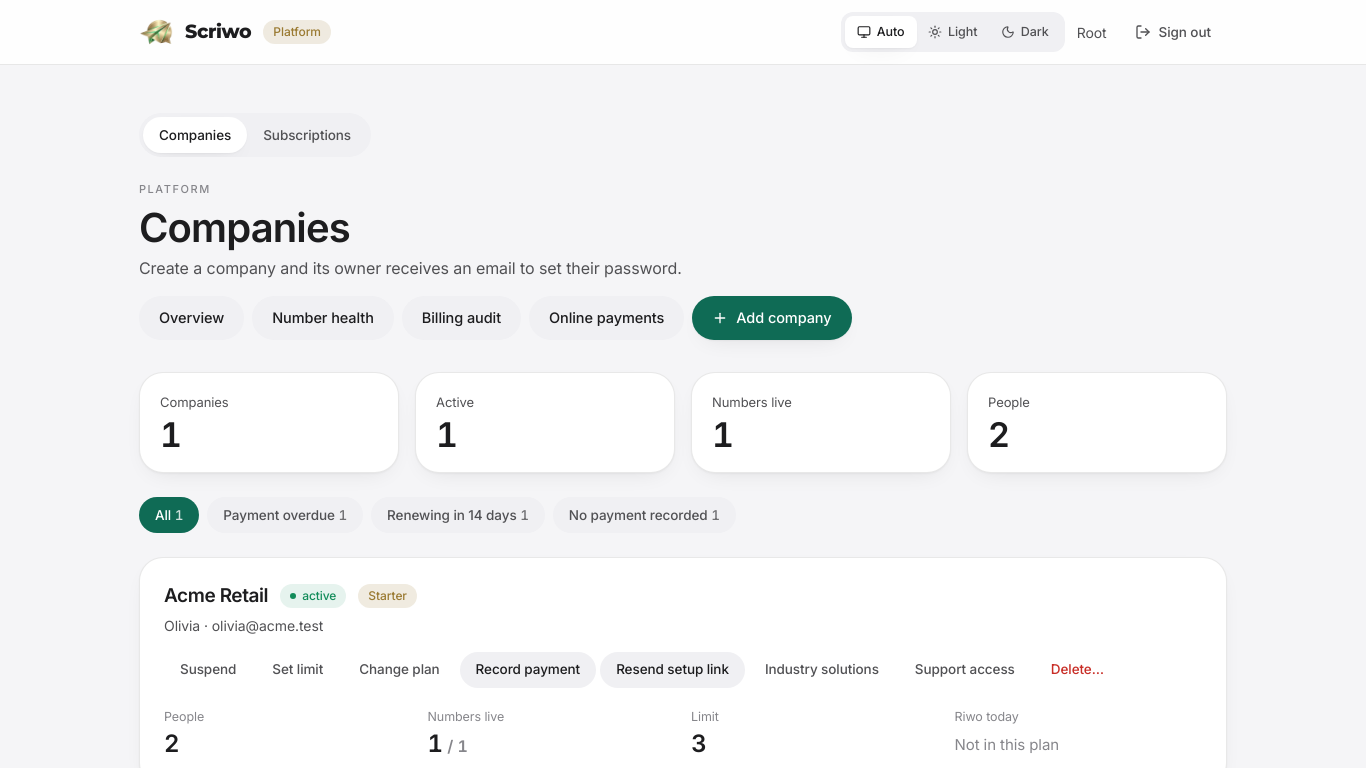
Test case: choosing a plan when a company is added › shows why a company could not be added
Expected: the heading "Acme Retail" is shown, 164,582 -> 268,610
Click the button "Add company" at (772, 318), box 692,296 -> 852,340
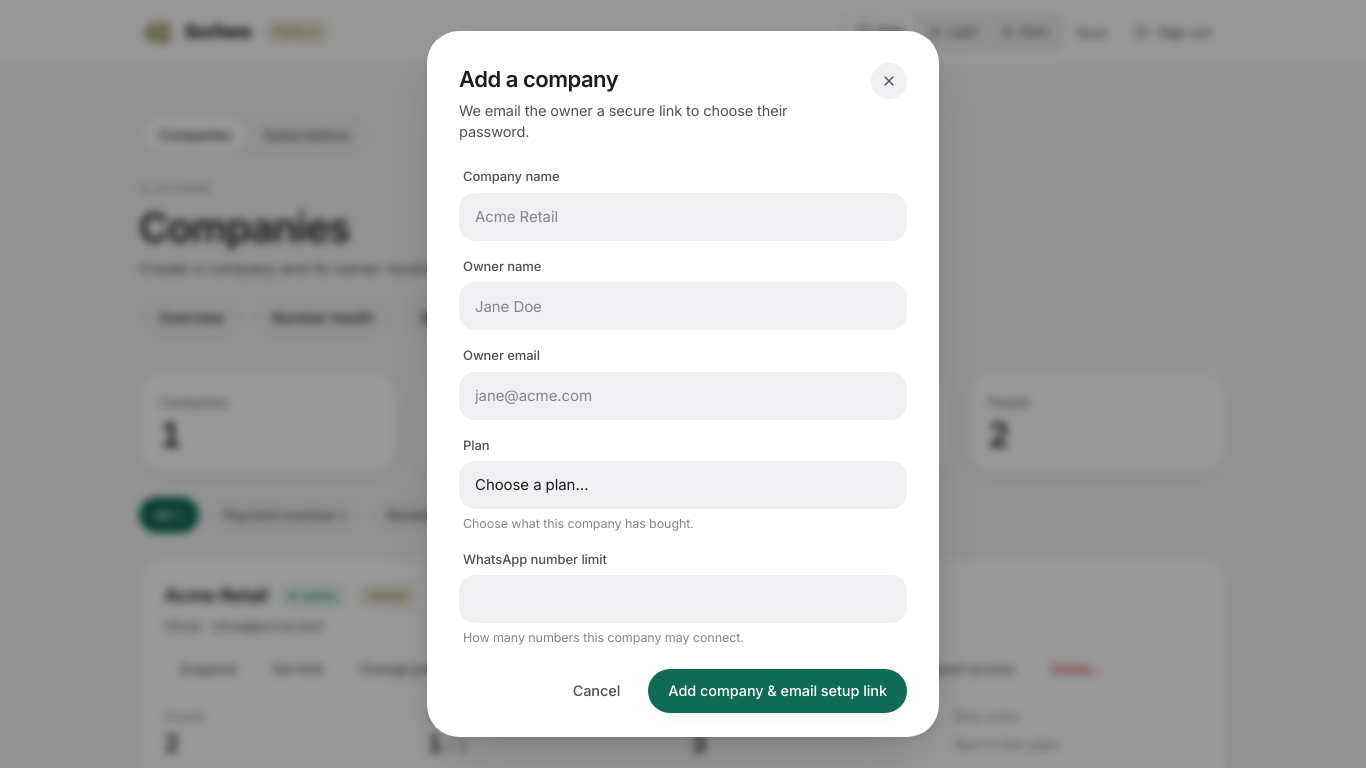
Type "Globex" into the field labelled "Company name" at (683, 217), box 459,193 -> 907,241
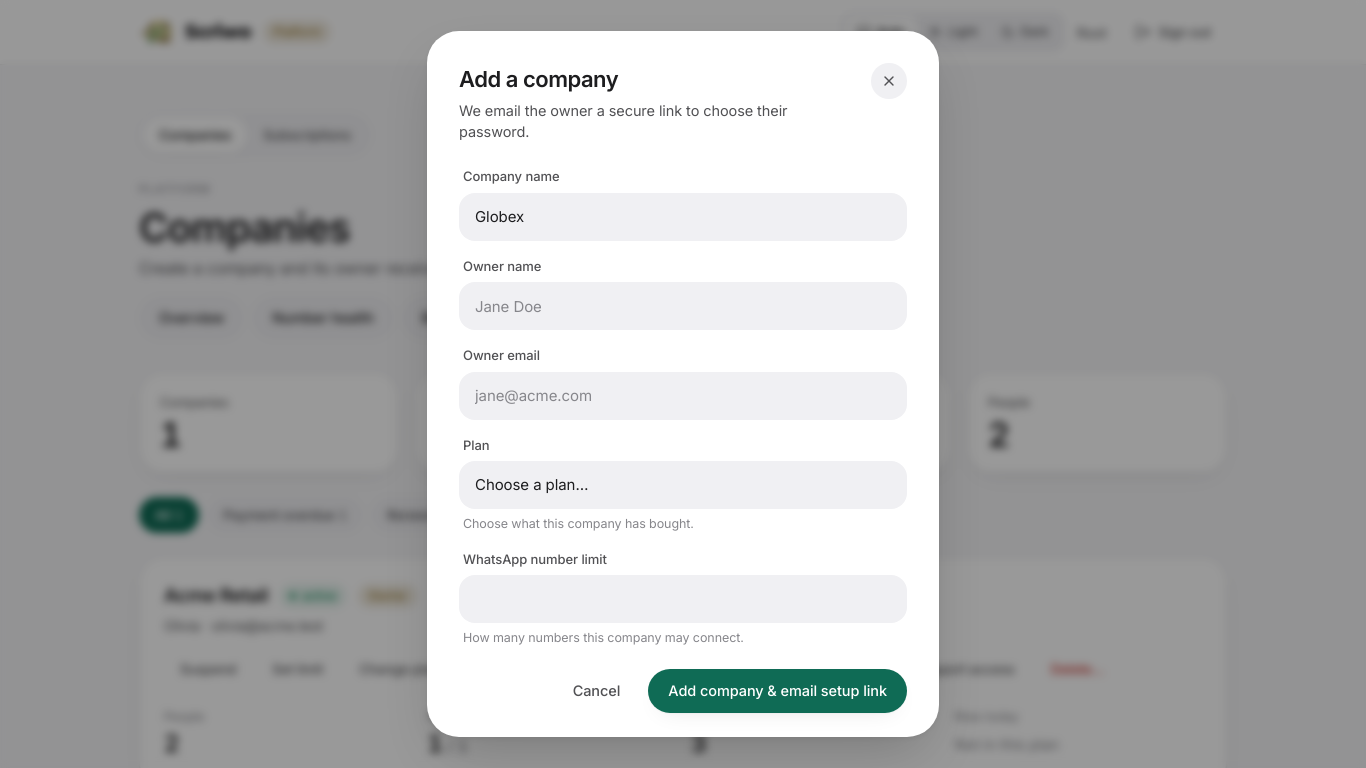
Type "Hank" into the field labelled "Owner name" at (683, 306), box 459,282 -> 907,330
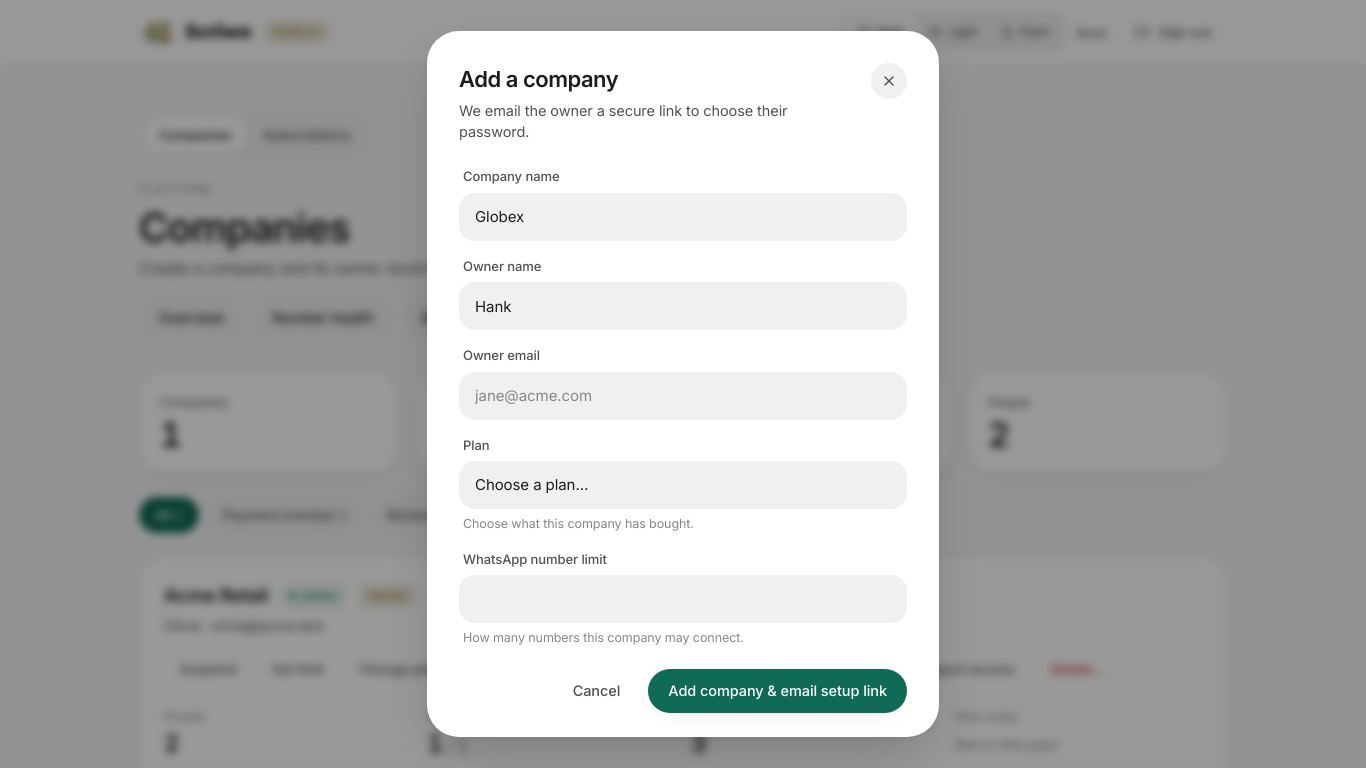
Type "hank@globex.test" into the field labelled "Owner email" at (683, 396), box 459,372 -> 907,420
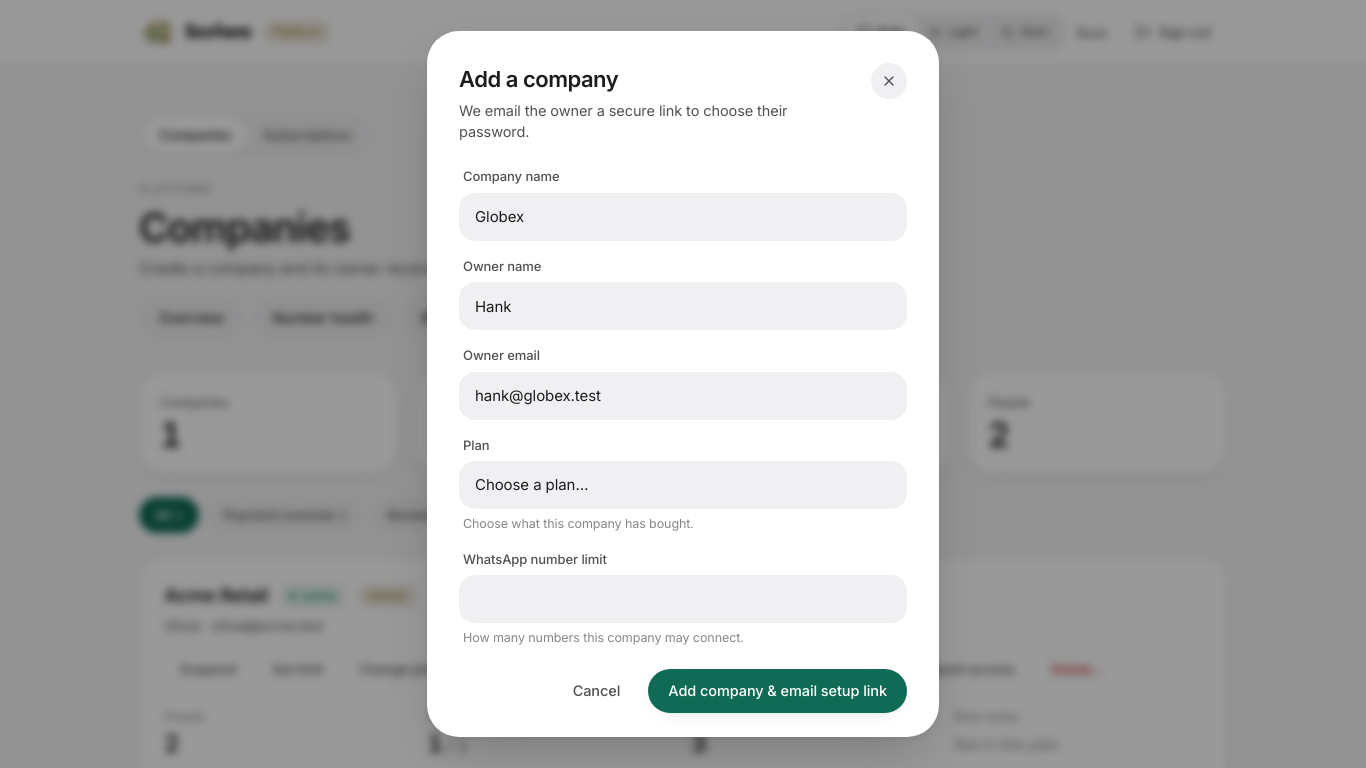
Select "Starter" in the dropdown labelled "Plan" at (683, 485), box 459,461 -> 907,509
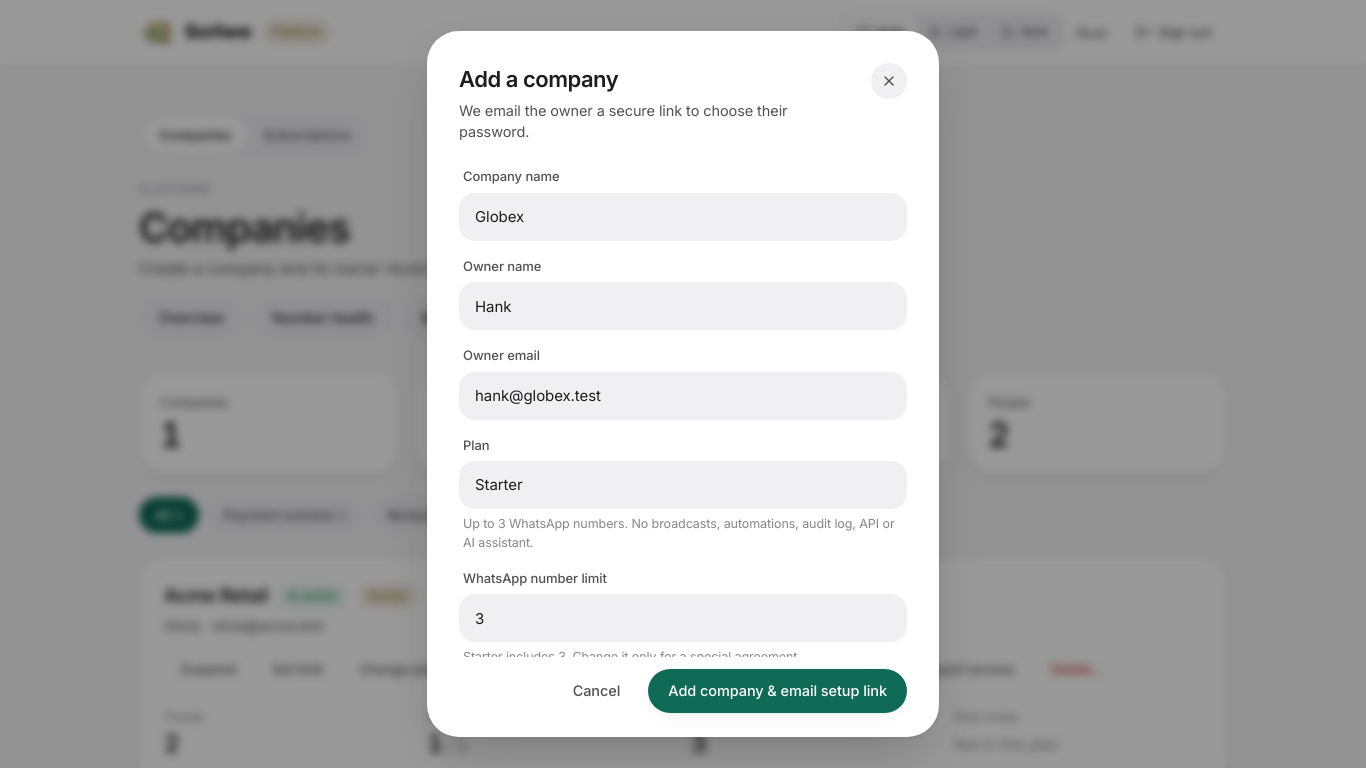
Click the button "Add company & email setup link" at (778, 691), box 648,669 -> 907,713
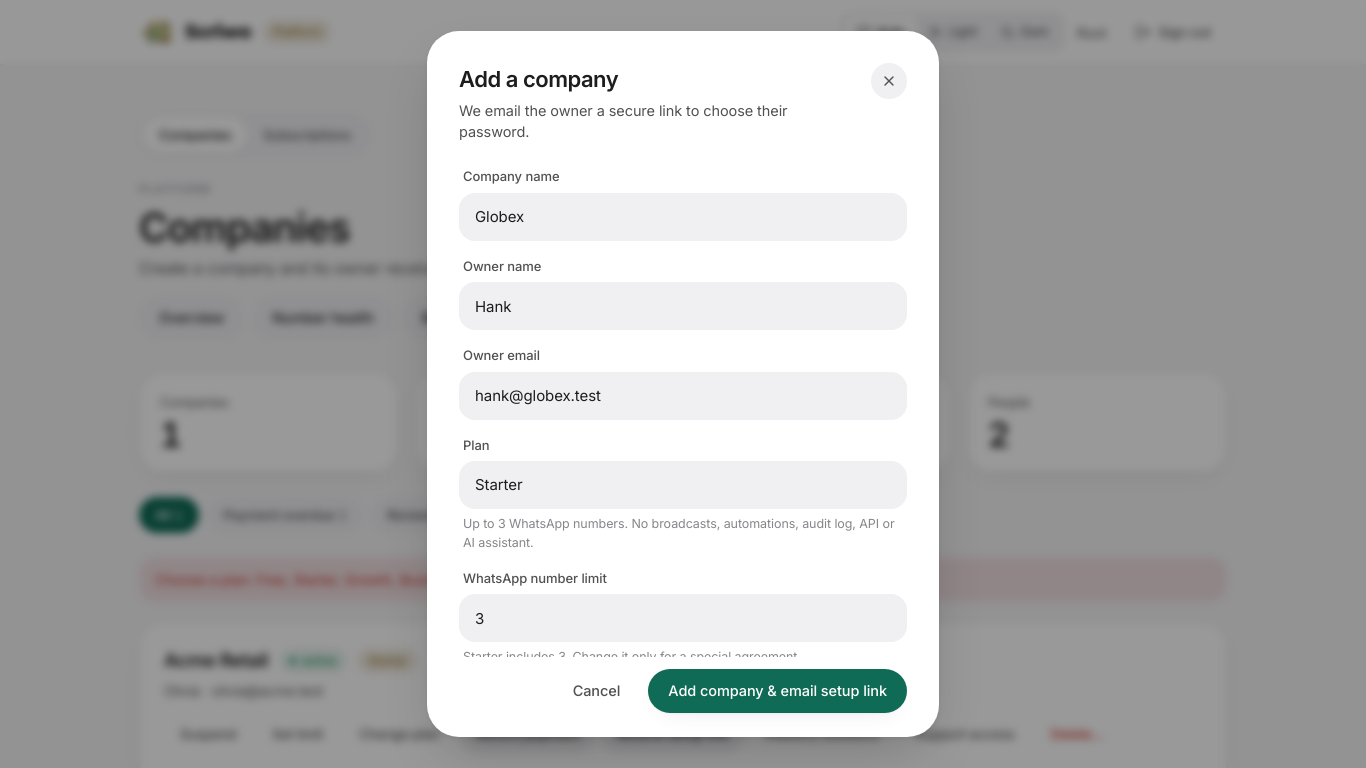
Result: the text "Choose a plan: Free, Starter, Growth, Business, Enterprise" is shown at 139,557 -> 1227,602
